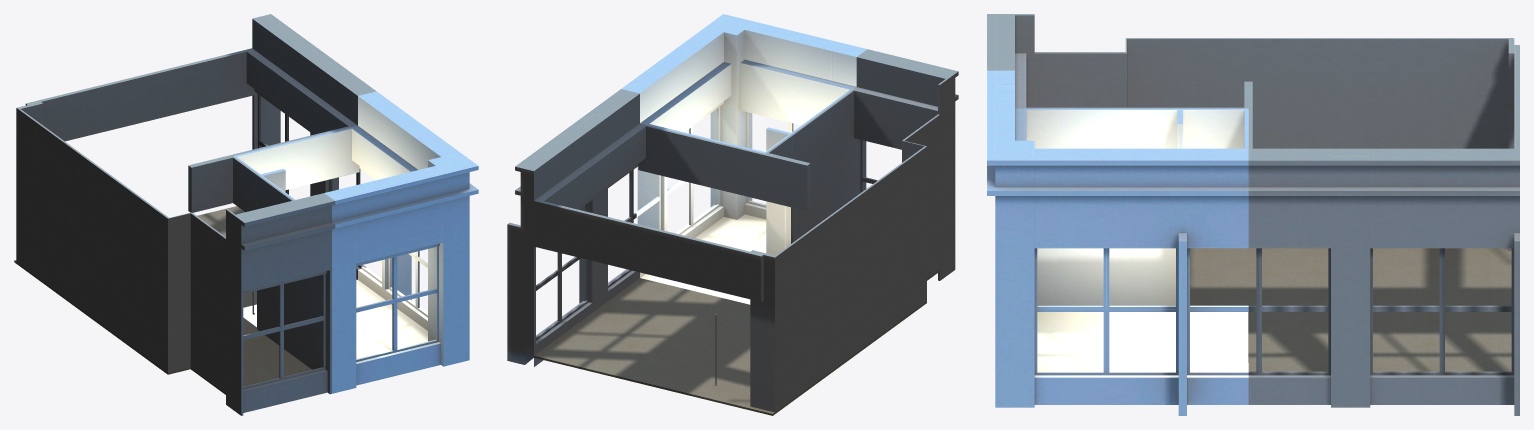
The picture shows the model from 3 angles, left to right: view 1: azimuth 30°, elevation 25°; view 2: azimuth 150°, elevation 25°; view 3: azimuth 270°, elevation 25°; orthographic projection. The views are drawn at different scales.
Parts seen in each view (by area): view 1: hc_2floor_room025_1, hc_2floor_room029_2; view 2: hc_2floor_room025_1, hc_2floor_room029_2; view 3: hc_2floor_room025_1, hc_2floor_room029_2.
Part boxes in pixels (<box>): hc_2floor_room025_1: <box>14,14,376,415</box>; hc_2floor_room029_2: <box>233,91,478,393</box>; hc_2floor_room025_1: <box>507,49,958,415</box>; hc_2floor_room029_2: <box>621,14,867,304</box>; hc_2floor_room025_1: <box>987,14,1519,415</box>; hc_2floor_room029_2: <box>987,70,1248,415</box>.
Bounding box in the file's own units: 0.7 × 0.4943 × 0.9525.
2 materials, 2 textured.
